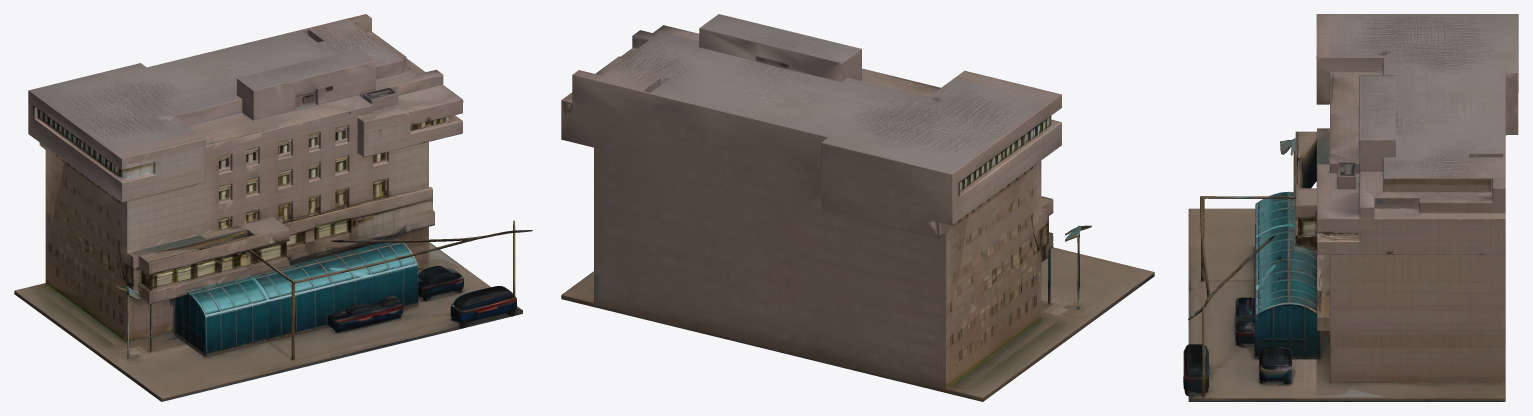
3 views of the same model, side by side, from view 1: azimuth 30°, elevation 25°; view 2: azimuth 150°, elevation 25°; view 3: azimuth 270°, elevation 25° (orthographic). The views are drawn at different scales.
Visible parts, largest first — view 1: texture_pbr_v128; view 2: texture_pbr_v128; view 3: texture_pbr_v128.
Boxes of the visible parts, x1=… form: texture_pbr_v128: x1=14, y1=14, x2=532, y2=401; texture_pbr_v128: x1=561, y1=14, x2=1154, y2=401; texture_pbr_v128: x1=1183, y1=14, x2=1518, y2=401.
Bounding box in the file's own units: 0.8957 × 0.488 × 0.6524.
1 material, 1 textured.
